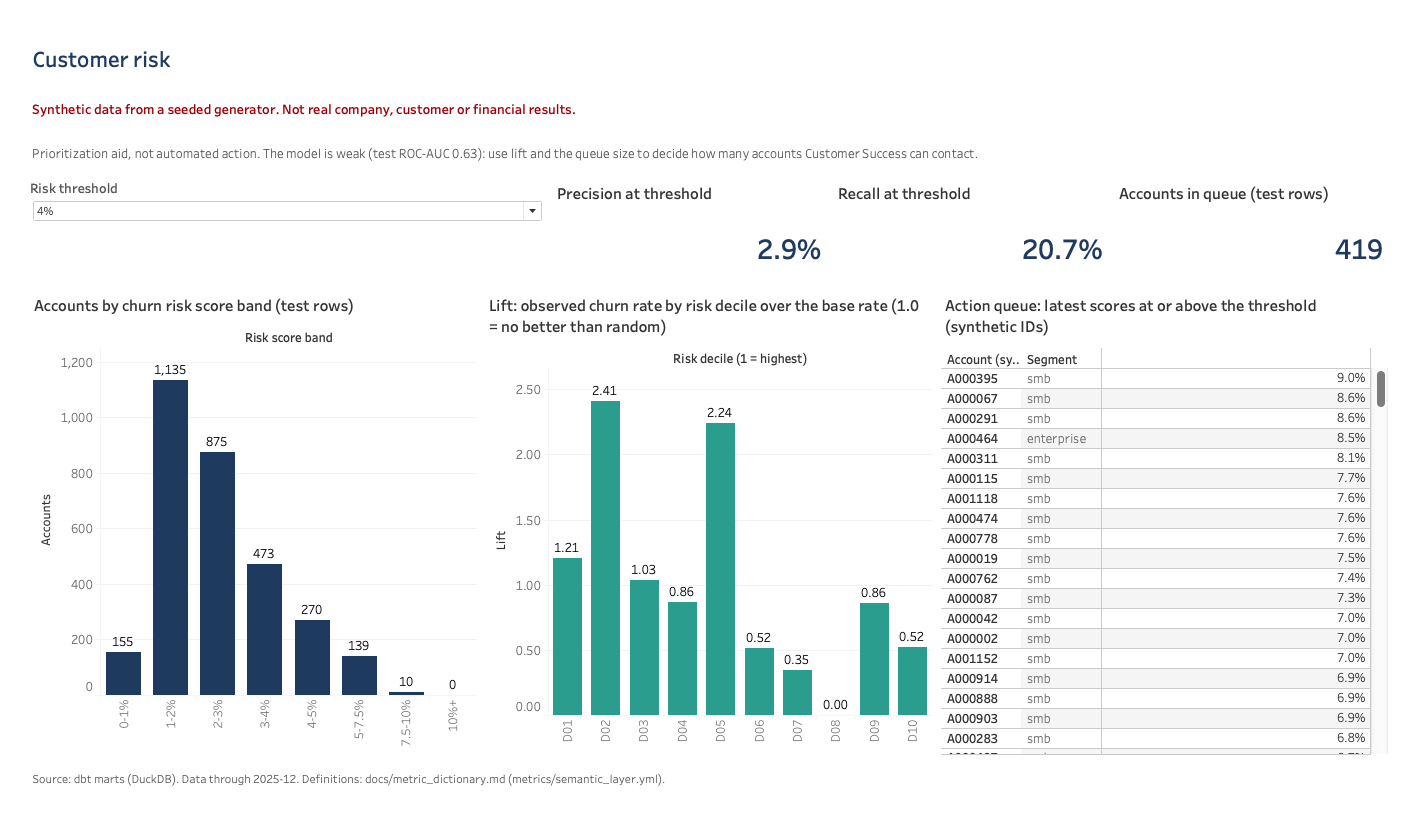

What the dashboard file says about the page in this screenshot:
{"tool":"tableau","page":{"name":"Customer risk","canvas":[1366,768],"ordinal":2},"visuals":[{"type":"text","box":[0,0,1366,72]},{"type":"text","box":[0,72,1366,36]},{"type":"text","box":[0,108,1366,36]},{"type":"parameter","param":"[Parameters].[threshold_param]","box":[0,144,546.4,112]},{"type":"worksheet","title":"KPI Precision","mark":"Text","box":[546.4,144,273.2,112]},{"type":"worksheet","title":"KPI Recall","mark":"Text","box":[819.6,144,273.2,112]},{"type":"worksheet","title":"KPI Queue size","mark":"Text","box":[1092.8,144,273.2,112]},{"type":"worksheet","title":"Risk distribution","mark":"Bar","rows":["accounts"],"cols":["risk_bucket"],"box":[0,256,455.3,480]},{"type":"worksheet","title":"Lift by decile","mark":"Bar","rows":["lift"],"cols":["decile"],"box":[455.3,256,455.3,480]},{"type":"worksheet","title":"Risk action queue","mark":"Text","rows":["account_id","segment"],"box":[910.7,256,455.3,480]},{"type":"text","box":[0,736,1366,32]}]}

Visuals, with their boxes on the page's 1366x768 design canvas (x1, y1, x2, y2). These are canvas units, not pixel positions in the 1424x826 screenshot, which may show the page scaled, cropped or inside an application window:
text: box=[0, 0, 1366, 72]
text: box=[0, 72, 1366, 108]
text: box=[0, 108, 1366, 144]
parameter: box=[0, 144, 546, 256]
"KPI Precision" worksheet (Text marks): box=[546, 144, 820, 256]
"KPI Recall" worksheet (Text marks): box=[820, 144, 1093, 256]
"KPI Queue size" worksheet (Text marks): box=[1093, 144, 1366, 256]
"Risk distribution" worksheet (Bar marks): box=[0, 256, 455, 736]
"Lift by decile" worksheet (Bar marks): box=[455, 256, 911, 736]
"Risk action queue" worksheet (Text marks): box=[911, 256, 1366, 736]
text: box=[0, 736, 1366, 768]
